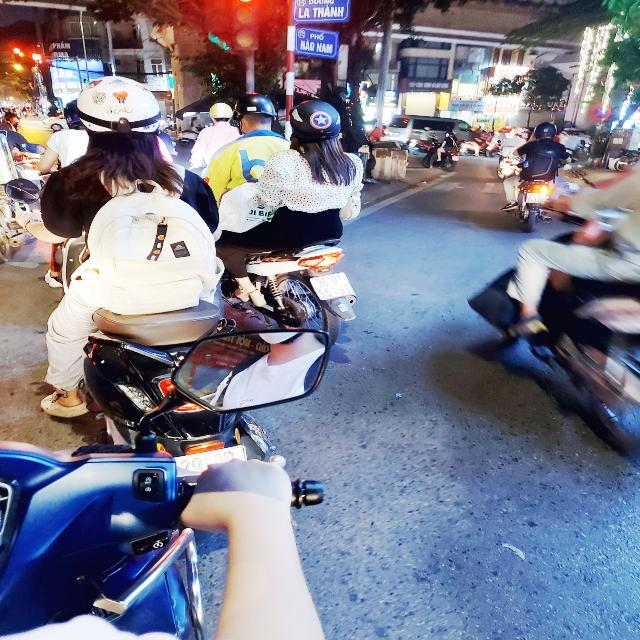license_plate: (306, 271, 359, 304), (526, 193, 548, 205)
